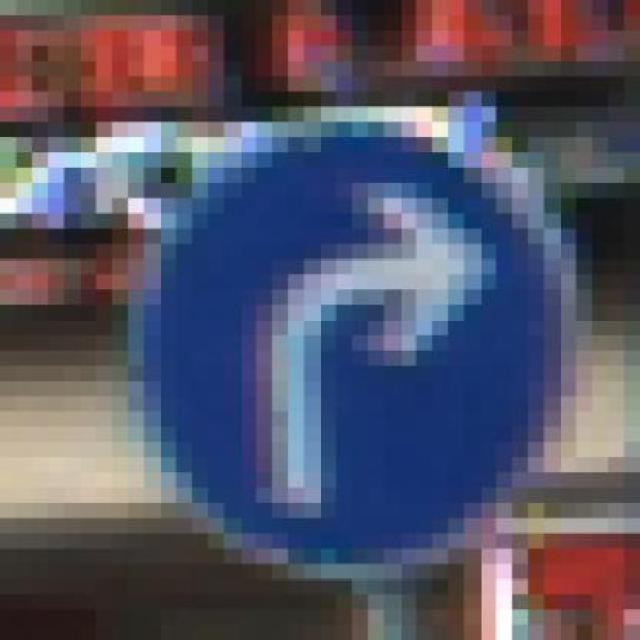Turn right ahead: (95, 107, 592, 579)
